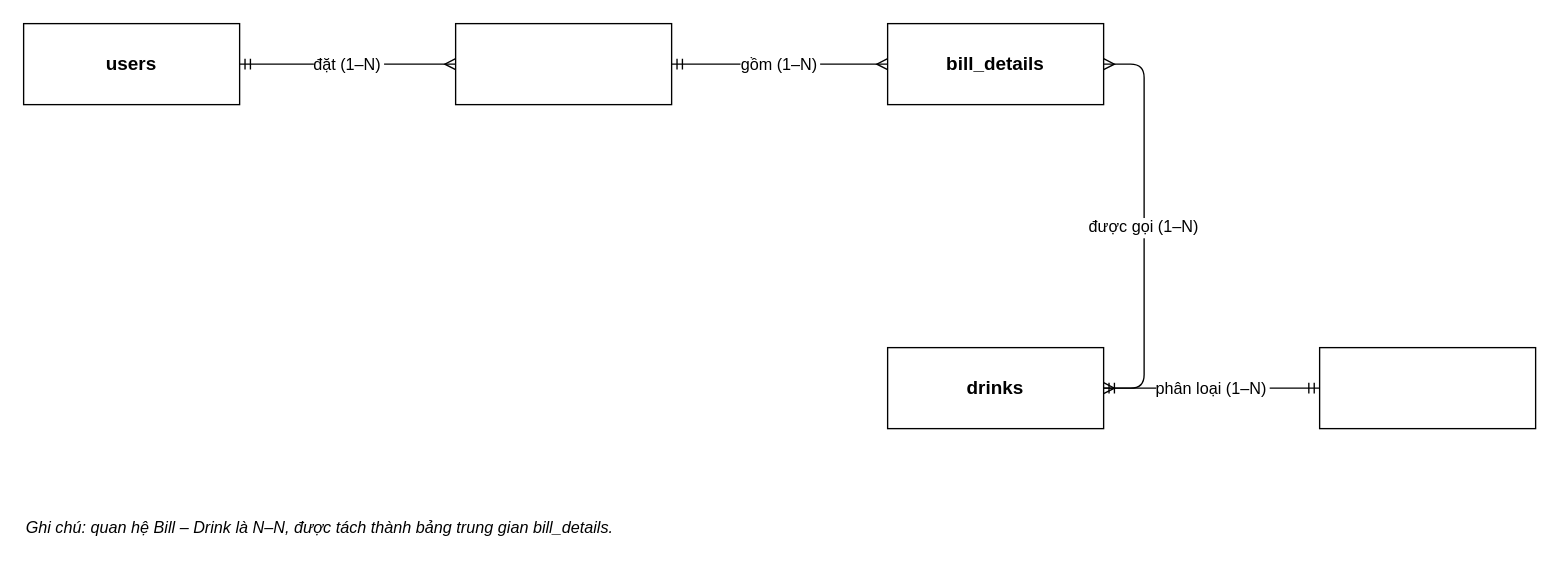
Image size: 1559x574. Some labels were removed from this diagram. The box of each missing label's shape, as (x1, y1, x2, y2) in pixels:
bills: (454, 22, 672, 105)
categories: (1318, 346, 1536, 429)
